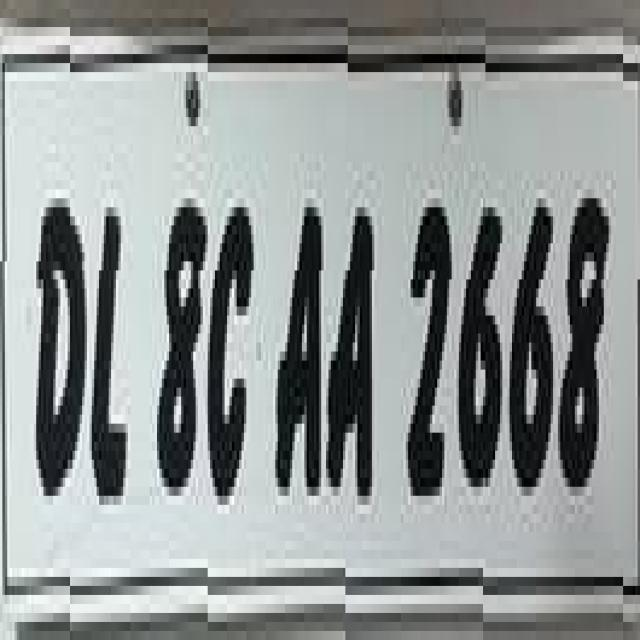plate: (19, 0, 640, 604)
